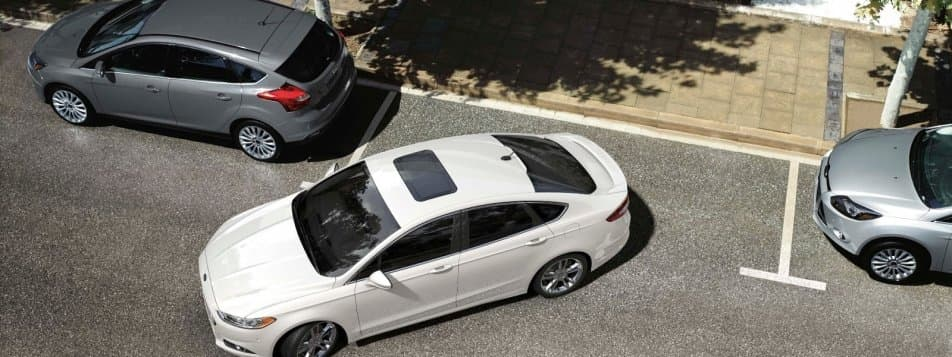car: (166, 122, 658, 352), (19, 2, 366, 162), (813, 88, 952, 290)
